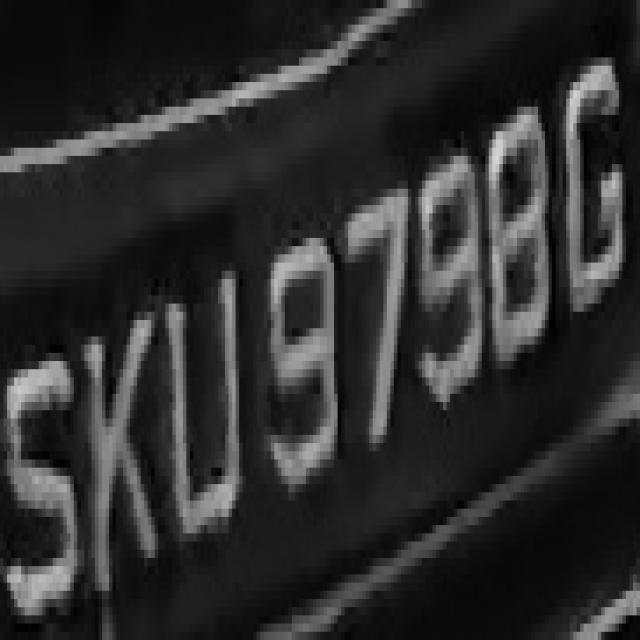7: (330, 172, 415, 468)
8: (478, 90, 556, 378)
9: (260, 214, 345, 501), (404, 148, 489, 402)
G: (556, 49, 636, 328)
K: (81, 271, 165, 599)
S: (0, 328, 74, 640)
U: (155, 254, 246, 558)
